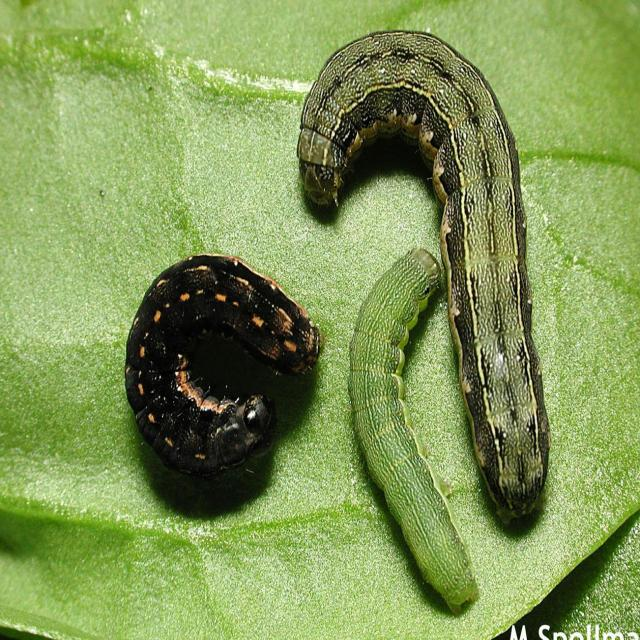BeetArmyWorm-Larva-: (292, 28, 554, 534), (337, 242, 487, 626), (121, 246, 327, 480)
